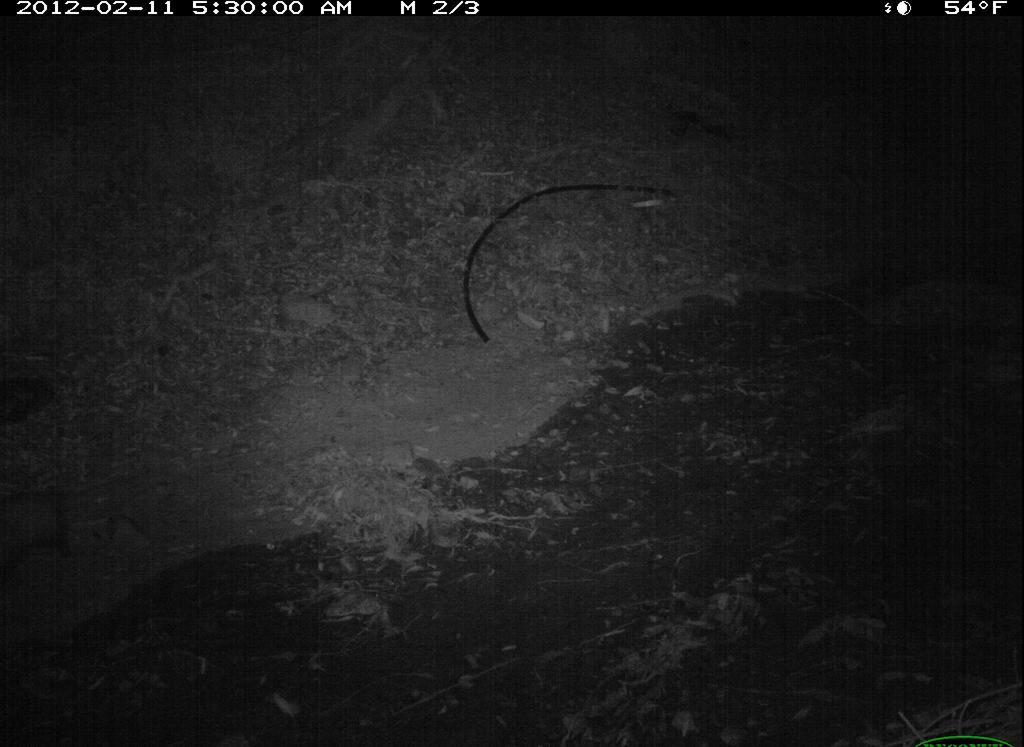opossum: (3, 472, 161, 598)
